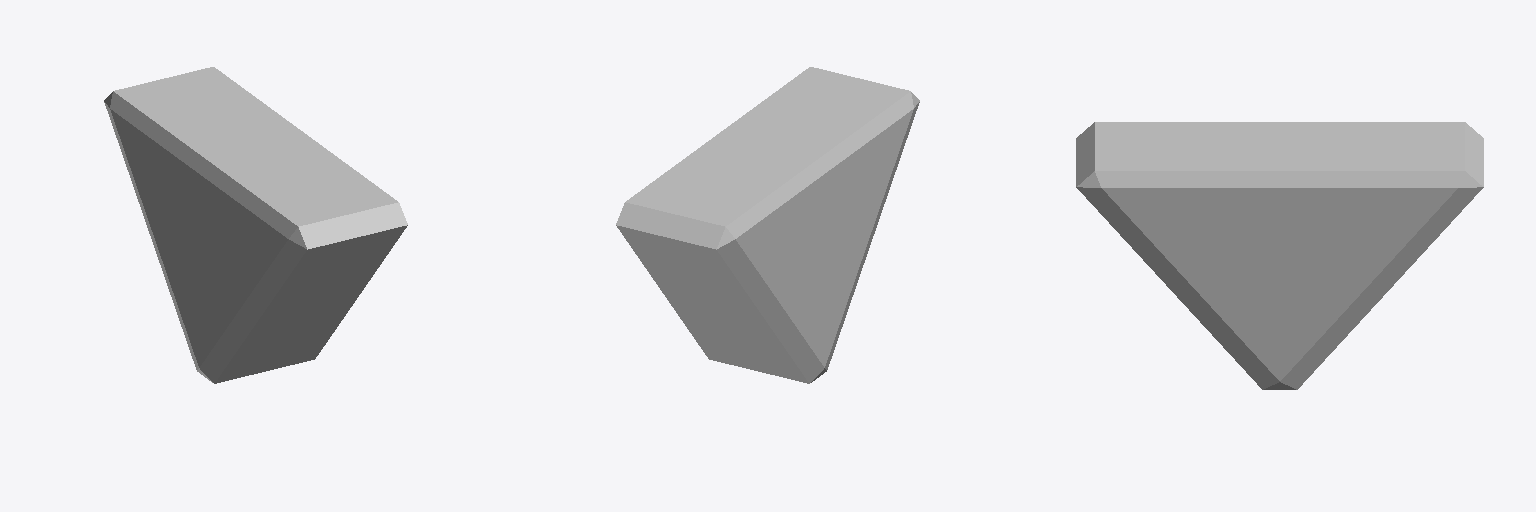
The model's file is rounded_triangle.obj.
The picture shows the model from 3 angles: view 1: azimuth 30°, elevation 25°; view 2: azimuth 150°, elevation 25°; view 3: azimuth 270°, elevation 25°; orthographic projection.
Visible parts, largest first — view 1: Cube; view 2: Cube; view 3: Cube.
Part boxes in pixels (bbox=[...]): Cube: bbox=[104, 67, 407, 383]; Cube: bbox=[616, 67, 919, 383]; Cube: bbox=[1076, 122, 1483, 389].
Size of the model in its own units: 0.6 by 1.1 by 1.86.